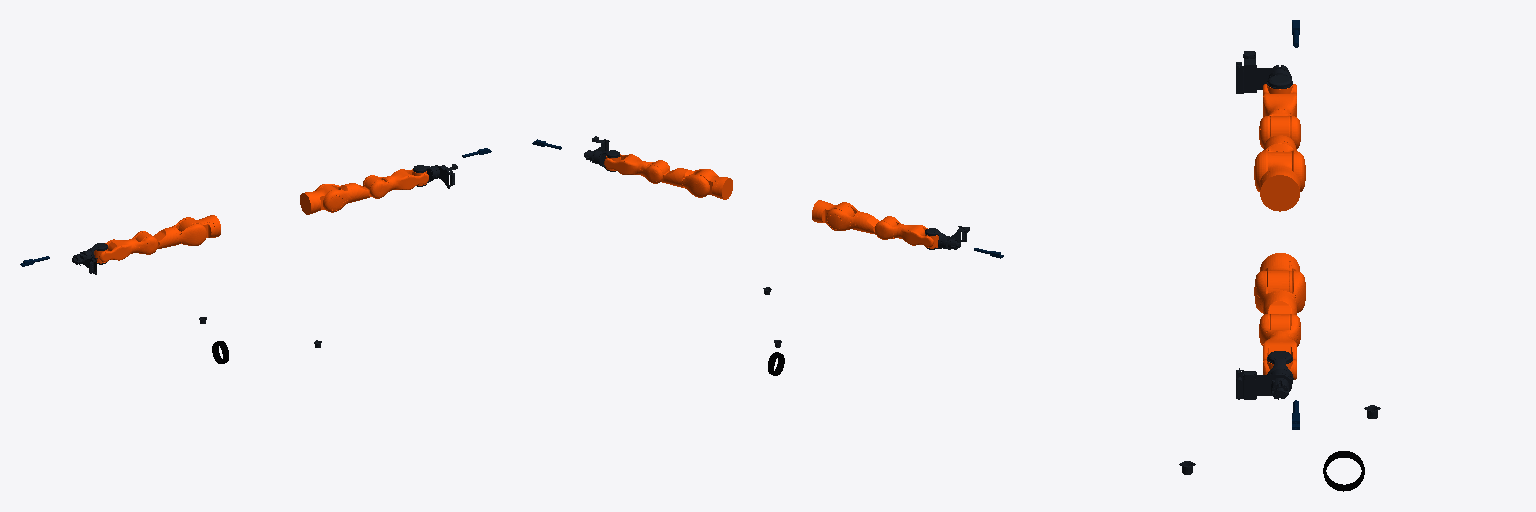
URDF robot description (xczs_inspection_robot):
<?xml version="1.0"?>
<!--
  由 scripts/build-models.mjs 生成，请勿手工编辑。
  源：work01/xczs_inspection_robot_description/urdf/components/*.xacro
  toolset: A（右三电缸 / 左两电缸 · 抽屉抽拉与按钮按压）
-->
<robot name="xczs_inspection_robot">

  <material name="industrial_navy">
    <color rgba="0.035 0.145 0.255 1" />
  </material>
  <material name="safety_orange">
    <color rgba="1.0 0.36 0.04 1" />
  </material>
  <material name="graphite_black">
    <color rgba="0.12 0.14 0.17 1" />
  </material>
  <material name="rubber_black">
    <color rgba="0.025 0.025 0.03 1" />
  </material>

    <!-- ============ 本体与底盘 ============ -->
    <link name="body">
      <visual>
        <origin xyz="0.001631 -0.000036 0.228708" rpy="0 0 0" />
        <geometry>
          <mesh filename="dual_arm/body_visual.stl" />
        </geometry>
        <material name="industrial_navy" />
      </visual>
    </link>

    <!-- Nav2 REP-105 基座坐标系：+X 指向底盘物理正前方（本体 -Y） -->
    <link name="base_link" />
    <joint name="body_base_link" type="fixed">
      <origin xyz="0 0 0" rpy="0 0 -1.57079632679" />
      <parent link="body" />
      <child link="base_link" />
    </joint>

    <link name="l_wheel_0">
      <visual>
        <origin xyz="0 0 0" rpy="0 0 0" />
        <geometry>
          <mesh filename="dual_arm/l_wheel_0_visual.stl" />
        </geometry>
        <material name="rubber_black" />
      </visual>
    </link>
    <joint name="l_wheel_0_joint" type="continuous">
      <origin xyz="0.171631 -0.248602 -0.501391" rpy="0 0 1.570796" />
      <parent link="body" />
      <child link="l_wheel_0" />
      <axis xyz="0 1 0" />
    </joint>
    <link name="l_wheel_1">
      <visual>
        <origin xyz="0 0 0" rpy="0 0 0" />
        <geometry>
          <mesh filename="dual_arm/l_wheel_1_visual.stl" />
        </geometry>
        <material name="rubber_black" />
      </visual>
    </link>
    <joint name="l_wheel_1_joint" type="continuous">
      <origin xyz="0.171631 0.241398 -0.501391" rpy="0 0 1.570796" />
      <parent link="body" />
      <child link="l_wheel_1" />
      <axis xyz="0 1 0" />
    </joint>
    <link name="r_wheel_0">
      <visual>
        <origin xyz="0 0 0" rpy="0 0 0" />
        <geometry>
          <mesh filename="dual_arm/r_wheel_0_visual.stl" />
        </geometry>
        <material name="rubber_black" />
      </visual>
    </link>
    <joint name="r_wheel_0_joint" type="continuous">
      <origin xyz="-0.168369 -0.248602 -0.501391" rpy="0 0 -1.570796" />
      <parent link="body" />
      <child link="r_wheel_0" />
      <axis xyz="0 1 0" />
    </joint>
    <link name="r_wheel_1">
      <visual>
        <origin xyz="0 0 0" rpy="0 0 0" />
        <geometry>
          <mesh filename="dual_arm/r_wheel_1_visual.stl" />
        </geometry>
        <material name="rubber_black" />
      </visual>
    </link>
    <joint name="r_wheel_1_joint" type="continuous">
      <origin xyz="-0.168369 0.241398 -0.501391" rpy="0 0 -1.570796" />
      <parent link="body" />
      <child link="r_wheel_1" />
      <axis xyz="0 1 0" />
    </joint>

    <link name="l_laser">
      <visual>
        <origin xyz="-0.001516 0.000086 0.003263" rpy="0 0 0" />
        <geometry>
          <mesh filename="dual_arm/l_laser_visual.stl" />
        </geometry>
        <material name="graphite_black" />
      </visual>
    </link>
    <joint name="l_laser_joint" type="fixed">
      <origin xyz="0.245498 -0.357591 -0.293528" rpy="0 -3.141593 -0.785398" />
      <parent link="body" />
      <child link="l_laser" />
    </joint>
    <link name="r_laser">
      <visual>
        <origin xyz="-0.001516 0.000086 0.003263" rpy="0 0 0" />
        <geometry>
          <mesh filename="dual_arm/r_laser_visual.stl" />
        </geometry>
        <material name="graphite_black" />
      </visual>
    </link>
    <joint name="r_laser_joint" type="fixed">
      <origin xyz="-0.242237 0.350388 -0.293528" rpy="0 0 0" />
      <parent link="body" />
      <child link="r_laser" />
    </joint>

    <!-- ============ 双臂 7 自由度链 ============ -->
    <link name="l_arm_0">
      <visual>
        <origin xyz="-0.000004 0.000048 -0.133262" rpy="0 0 0" />
        <geometry>
          <mesh filename="dual_arm/l_arm_0_visual.stl" />
        </geometry>
        <material name="safety_orange" />
      </visual>
    </link>
    <joint name="l_arm_0_joint" type="revolute">
      <origin xyz="0.353879 -0.003608 0.588076" rpy="0 -1.570796 0" />
      <parent link="body" />
      <child link="l_arm_0" />
      <axis xyz="0 0 1" />
      <limit lower="-3.141593" upper="3.141593" effort="100" velocity="10" />
    </joint>
    <link name="l_arm_1">
      <visual>
        <origin xyz="0 -0.046173 -0.034034" rpy="0 0 0" />
        <geometry>
          <mesh filename="dual_arm/l_arm_1_visual.stl" />
        </geometry>
        <material name="safety_orange" />
      </visual>
    </link>
    <joint name="l_arm_1_joint" type="revolute">
      <origin xyz="-0.000004 0.046447 -0.186762" rpy="0 0 0" />
      <parent link="l_arm_0" />
      <child link="l_arm_1" />
      <axis xyz="0 1 0" />
      <limit lower="-3.141593" upper="3.141593" effort="100" velocity="10" />
    </joint>
    <link name="l_arm_2">
      <visual>
        <origin xyz="0.000028 0.000072 -0.13729" rpy="0 0 0" />
        <geometry>
          <mesh filename="dual_arm/l_arm_2_visual.stl" />
        </geometry>
        <material name="safety_orange" />
      </visual>
    </link>
    <joint name="l_arm_2_joint" type="revolute">
      <origin xyz="-0.000027 -0.046495 -0.149211" rpy="0 0 0" />
      <parent link="l_arm_1" />
      <child link="l_arm_2" />
      <axis xyz="0 0 1" />
      <limit lower="-3.141593" upper="3.141593" effort="100" velocity="10" />
    </joint>
    <link name="l_arm_3">
      <visual>
        <origin xyz="-0.000061 0.000282 -0.021179" rpy="0 0 0" />
        <geometry>
          <mesh filename="dual_arm/l_arm_3_visual.stl" />
        </geometry>
        <material name="safety_orange" />
      </visual>
    </link>
    <joint name="l_arm_3_joint" type="revolute">
      <origin xyz="0.000167 -0.000274 -0.209639" rpy="0 0 0" />
      <parent link="l_arm_2" />
      <child link="l_arm_3" />
      <axis xyz="0 1 0" />
      <limit lower="-3.141593" upper="3.141593" effort="100" velocity="10" />
    </joint>
    <link name="l_arm_4">
      <visual>
        <origin xyz="0 0 -0.141006" rpy="0 0 0" />
        <geometry>
          <mesh filename="dual_arm/l_arm_4_visual.stl" />
        </geometry>
        <material name="safety_orange" />
      </visual>
    </link>
    <joint name="l_arm_4_joint" type="revolute">
      <origin xyz="-0.000139 0.000346 -0.109231" rpy="0 0 0" />
      <parent link="l_arm_3" />
      <child link="l_arm_4" />
      <axis xyz="0 0 1" />
      <limit lower="-3.141593" upper="3.141593" effort="100" velocity="10" />
    </joint>
    <link name="l_arm_5">
      <visual>
        <origin xyz="-0.00375 -0.000614 -0.000002" rpy="0 0 0" />
        <geometry>
          <mesh filename="dual_arm/l_arm_5_visual.stl" />
        </geometry>
        <material name="safety_orange" />
      </visual>
    </link>
    <joint name="l_arm_5_joint" type="revolute">
      <origin xyz="0 0.00062 -0.242595" rpy="0 0 0" />
      <parent link="l_arm_4" />
      <child link="l_arm_5" />
      <axis xyz="0 1 0" />
      <limit lower="-3.141593" upper="3.141593" effort="100" velocity="10" />
    </joint>
    <link name="l_arm_6">
      <visual>
        <origin xyz="0.011866 0.058917 0.084696" rpy="0 0 0" />
        <geometry>
          <mesh filename="dual_arm/l_arm_6_visual.stl" />
        </geometry>
        <material name="graphite_black" />
      </visual>
    </link>
    <joint name="l_arm_6_joint" type="revolute">
      <origin xyz="-0.004013 -0.00058 0" rpy="3.141593 0 0" />
      <parent link="l_arm_5" />
      <child link="l_arm_6" />
      <axis xyz="1 0 0" />
      <limit lower="-3.141593" upper="3.141593" effort="100" velocity="10" />
    </joint>

    <link name="r_arm_0">
      <visual>
        <origin xyz="-0.000004 0.000048 -0.133262" rpy="0 0 0" />
        <geometry>
          <mesh filename="dual_arm/r_arm_0_visual.stl" />
        </geometry>
        <material name="safety_orange" />
      </visual>
    </link>
    <joint name="r_arm_0_joint" type="revolute">
      <origin xyz="-0.350618 -0.003596 0.588076" rpy="-3.141593 -1.570796 0" />
      <parent link="body" />
      <child link="r_arm_0" />
      <axis xyz="0 0 1" />
      <limit lower="-3.141593" upper="3.141593" effort="100" velocity="10" />
    </joint>
    <link name="r_arm_1">
      <visual>
        <origin xyz="0 -0.046173 -0.034034" rpy="0 0 0" />
        <geometry>
          <mesh filename="dual_arm/r_arm_1_visual.stl" />
        </geometry>
        <material name="safety_orange" />
      </visual>
    </link>
    <joint name="r_arm_1_joint" type="revolute">
      <origin xyz="-0.000004 0.046447 -0.186762" rpy="0 0 0" />
      <parent link="r_arm_0" />
      <child link="r_arm_1" />
      <axis xyz="0 1 0" />
      <limit lower="-3.141593" upper="3.141593" effort="100" velocity="10" />
    </joint>
    <link name="r_arm_2">
      <visual>
        <origin xyz="0.000028 0.000072 -0.13729" rpy="0 0 0" />
        <geometry>
          <mesh filename="dual_arm/r_arm_2_visual.stl" />
        </geometry>
        <material name="safety_orange" />
      </visual>
    </link>
    <joint name="r_arm_2_joint" type="revolute">
      <origin xyz="-0.000027 -0.046495 -0.149211" rpy="0 0 0" />
      <parent link="r_arm_1" />
      <child link="r_arm_2" />
      <axis xyz="0 0 1" />
      <limit lower="-3.141593" upper="3.141593" effort="100" velocity="10" />
    </joint>
    <link name="r_arm_3">
      <visual>
        <origin xyz="-0.000061 0.000282 -0.021179" rpy="0 0 0" />
        <geometry>
          <mesh filename="dual_arm/r_arm_3_visual.stl" />
        </geometry>
        <material name="safety_orange" />
      </visual>
    </link>
    <joint name="r_arm_3_joint" type="revolute">
      <origin xyz="0.000167 -0.000274 -0.209639" rpy="0 0 0" />
      <parent link="r_arm_2" />
      <child link="r_arm_3" />
      <axis xyz="0 1 0" />
      <limit lower="-3.141593" upper="3.141593" effort="100" velocity="10" />
    </joint>
    <link name="r_arm_4">
      <visual>
        <origin xyz="0 0 -0.141006" rpy="0 0 0" />
        <geometry>
          <mesh filename="dual_arm/r_arm_4_visual.stl" />
        </geometry>
        <material name="safety_orange" />
      </visual>
    </link>
    <joint name="r_arm_4_joint" type="revolute">
      <origin xyz="-0.000139 0.000346 -0.109231" rpy="0 0 0" />
      <parent link="r_arm_3" />
      <child link="r_arm_4" />
      <axis xyz="0 0 1" />
      <limit lower="-3.141593" upper="3.141593" effort="100" velocity="10" />
    </joint>
    <link name="r_arm_5">
      <visual>
        <origin xyz="-0.00375 -0.000614 -0.000002" rpy="0 0 0" />
        <geometry>
          <mesh filename="dual_arm/r_arm_5_visual.stl" />
        </geometry>
        <material name="safety_orange" />
      </visual>
    </link>
    <joint name="r_arm_5_joint" type="revolute">
      <origin xyz="0 0.00062 -0.242595" rpy="0 0 0" />
      <parent link="r_arm_4" />
      <child link="r_arm_5" />
      <axis xyz="0 1 0" />
      <limit lower="-3.141593" upper="3.141593" effort="100" velocity="10" />
    </joint>
    <link name="r_arm_6">
      <visual>
        <origin xyz="0.011866 0.058802 -0.084696" rpy="0 0 0" />
        <geometry>
          <mesh filename="dual_arm/r_arm_6_visual.stl" />
        </geometry>
        <material name="graphite_black" />
      </visual>
    </link>
    <joint name="r_arm_6_joint" type="revolute">
      <origin xyz="-0.004013 -0.00058 0" rpy="0 0 0" />
      <parent link="r_arm_5" />
      <child link="r_arm_6" />
      <axis xyz="1 0 0" />
      <limit lower="-3.141593" upper="3.141593" effort="100" velocity="10" />
    </joint>

    <!-- ============ 腕部相机壳体 ============ -->
    <link name="l_camera">
      <visual>
        <origin xyz="-0.000001 0 0" rpy="0 0 0" />
        <geometry>
          <mesh filename="dual_arm/l_camera_visual.stl" />
        </geometry>
        <material name="graphite_black" />
      </visual>
    </link>
    <joint name="l_camera_joint" type="fixed">
      <origin xyz="0.004026 0.156793 0.17894" rpy="-3.13956 1.570795 0" />
      <parent link="l_arm_6" />
      <child link="l_camera" />
    </joint>
    <link name="r_camera">
      <visual>
        <origin xyz="-0.000001 0 0" rpy="0 0 0" />
        <geometry>
          <mesh filename="dual_arm/r_camera_visual.stl" />
        </geometry>
        <material name="graphite_black" />
      </visual>
    </link>
    <joint name="r_camera_joint" type="fixed">
      <origin xyz="0.004026 0.156678 -0.17894" rpy="-3.13956 1.570795 0" />
      <parent link="r_arm_6" />
      <child link="r_camera" />
    </joint>

    <!-- ============ 末端工具套装 A ============ -->
    <link name="r_three_cyl_base">
      <visual>
        <origin xyz="0 0 0" rpy="0 0 0" />
        <geometry>
          <mesh filename="tools/three_cylinder/endbody3.STL" />
        </geometry>
        <material name="graphite_black" />
      </visual>
    </link>
    <joint name="r_three_cyl_mount" type="fixed">
      <origin xyz="0.0040 0.0000 -0.1984" rpy="0 0 0" />
      <parent link="r_arm_6" />
      <child link="r_three_cyl_base" />
    </joint>

    <link name="r_three_cyl_finger1">
      <visual>
        <origin xyz="0 0 0" rpy="0 0 0" />
        <geometry>
          <mesh filename="tools/three_cylinder/endllink1.STL" />
        </geometry>
        <material name="industrial_navy" />
      </visual>
    </link>
    <joint name="r_three_cyl_finger1_joint" type="prismatic">
      <origin xyz="0.034 -0.061735 -0.2985" rpy="0 0 0" />
      <parent link="r_three_cyl_base" />
      <child link="r_three_cyl_finger1" />
      <axis xyz="0 0 -1" />
      <limit lower="0" upper="0.12" effort="100" velocity="1" />
    </joint>
    <link name="r_three_cyl_finger2">
      <visual>
        <origin xyz="0 0 0" rpy="0 0 0" />
        <geometry>
          <mesh filename="tools/three_cylinder/endllink2.STL" />
        </geometry>
        <material name="industrial_navy" />
      </visual>
    </link>
    <joint name="r_three_cyl_finger2_joint" type="prismatic">
      <origin xyz="-0.034 -0.061735 -0.2935" rpy="0 0 0" />
      <parent link="r_three_cyl_base" />
      <child link="r_three_cyl_finger2" />
      <axis xyz="0 0 -1" />
      <limit lower="0" upper="0.12" effort="100" velocity="1" />
    </joint>
    <link name="r_three_cyl_finger3">
      <visual>
        <origin xyz="0 0 0" rpy="0 0 0" />
        <geometry>
          <mesh filename="tools/three_cylinder/endllink3.STL" />
        </geometry>
        <material name="industrial_navy" />
      </visual>
    </link>
    <joint name="r_three_cyl_finger3_joint" type="prismatic">
      <origin xyz="-0.012 0.082 -0.05245" rpy="0 0 0" />
      <parent link="r_three_cyl_finger2" />
      <child link="r_three_cyl_finger3" />
      <axis xyz="0 0 -1" />
      <limit lower="0" upper="0.0254" effort="100" velocity="1" />
    </joint>

    <link name="l_two_cyl_base">
      <visual>
        <origin xyz="0 0 0" rpy="0 0 0" />
        <geometry>
          <mesh filename="tools/two_cylinder/endBody4.STL" />
        </geometry>
        <material name="graphite_black" />
      </visual>
    </link>
    <joint name="l_two_cyl_mount" type="fixed">
      <origin xyz="0.0040 0.0001 0.1984" rpy="0 3.14159265359 0" />
      <parent link="l_arm_6" />
      <child link="l_two_cyl_base" />
    </joint>

    <link name="l_two_cyl_finger1">
      <visual>
        <origin xyz="0 0 0" rpy="0 0 0" />
        <geometry>
          <mesh filename="tools/two_cylinder/endlink1.STL" />
        </geometry>
        <material name="industrial_navy" />
      </visual>
    </link>
    <joint name="l_two_cyl_finger1_joint" type="prismatic">
      <origin xyz="0.034 -0.061735 -0.2935" rpy="0 0 0" />
      <parent link="l_two_cyl_base" />
      <child link="l_two_cyl_finger1" />
      <axis xyz="0 0 -1" />
      <limit lower="0" upper="0.12" effort="100" velocity="1" />
    </joint>
    <link name="l_two_cyl_finger2">
      <visual>
        <origin xyz="0 0 0" rpy="0 0 0" />
        <geometry>
          <mesh filename="tools/two_cylinder/endlink2.STL" />
        </geometry>
        <material name="industrial_navy" />
      </visual>
    </link>
    <joint name="l_two_cyl_finger2_joint" type="prismatic">
      <origin xyz="-0.034 -0.061735 -0.2935" rpy="0 0 0" />
      <parent link="l_two_cyl_base" />
      <child link="l_two_cyl_finger2" />
      <axis xyz="0 0 -1" />
      <limit lower="0" upper="0.12" effort="100" velocity="1" />
    </joint>
</robot>

--- Render facts (derived) ---
3 views of the same robot in one strip: view 1: azimuth 30°, elevation 25°; view 2: azimuth 150°, elevation 25°; view 3: azimuth 270°, elevation 25° (orthographic).
Robot: xczs_inspection_robot — 31 links, 30 joints (14 revolute, 4 continuous, 5 prismatic, 7 fixed); root link body; default pose: all joints at 0.
Links seen in each view (by area): view 1: l_arm_1, r_arm_1, l_arm_0, r_arm_4, l_arm_4, l_arm_6; view 2: l_arm_1, r_arm_1, l_arm_0, r_arm_4, l_arm_4, r_arm_6; view 3: r_arm_0, l_arm_6, r_arm_6, l_arm_0, r_arm_1, l_arm_1, l_arm_2, l_arm_4, r_arm_4, r_arm_3, r_wheel_1, l_arm_3 (+1 smaller).
Link boxes in pixels (box(x1,y1,x2,y2)): l_arm_1: box(315, 184, 352, 212); r_arm_1: box(172, 217, 206, 245); l_arm_0: box(300, 185, 337, 214); r_arm_4: box(100, 239, 135, 261); l_arm_4: box(388, 169, 428, 190); l_arm_6: box(413, 164, 457, 188); l_arm_1: box(680, 169, 717, 197); r_arm_1: box(826, 202, 860, 230); l_arm_0: box(696, 170, 732, 199); r_arm_4: box(897, 224, 932, 246); l_arm_4: box(604, 154, 644, 175); r_arm_6: box(925, 226, 969, 249); r_arm_0: box(1260, 152, 1300, 211); l_arm_6: box(1236, 351, 1293, 399); r_arm_6: box(1236, 51, 1292, 93); l_arm_0: box(1260, 253, 1299, 292); r_arm_1: box(1254, 141, 1305, 191); l_arm_1: box(1254, 271, 1305, 312); l_arm_2: box(1263, 293, 1296, 329); l_arm_4: box(1263, 331, 1296, 379); r_arm_4: box(1263, 84, 1296, 116); r_arm_3: box(1259, 109, 1300, 148); r_wheel_1: box(1323, 451, 1364, 491); l_arm_3: box(1259, 314, 1300, 346).
Size in the robot's own frame: 3.67 by 0.7716 by 1.25 metres.
Meshes: 30 distinct files referenced, 21 mesh visuals loaded (21 binary STL); not drawn: 9 (reference not matched to a file when rendering).
